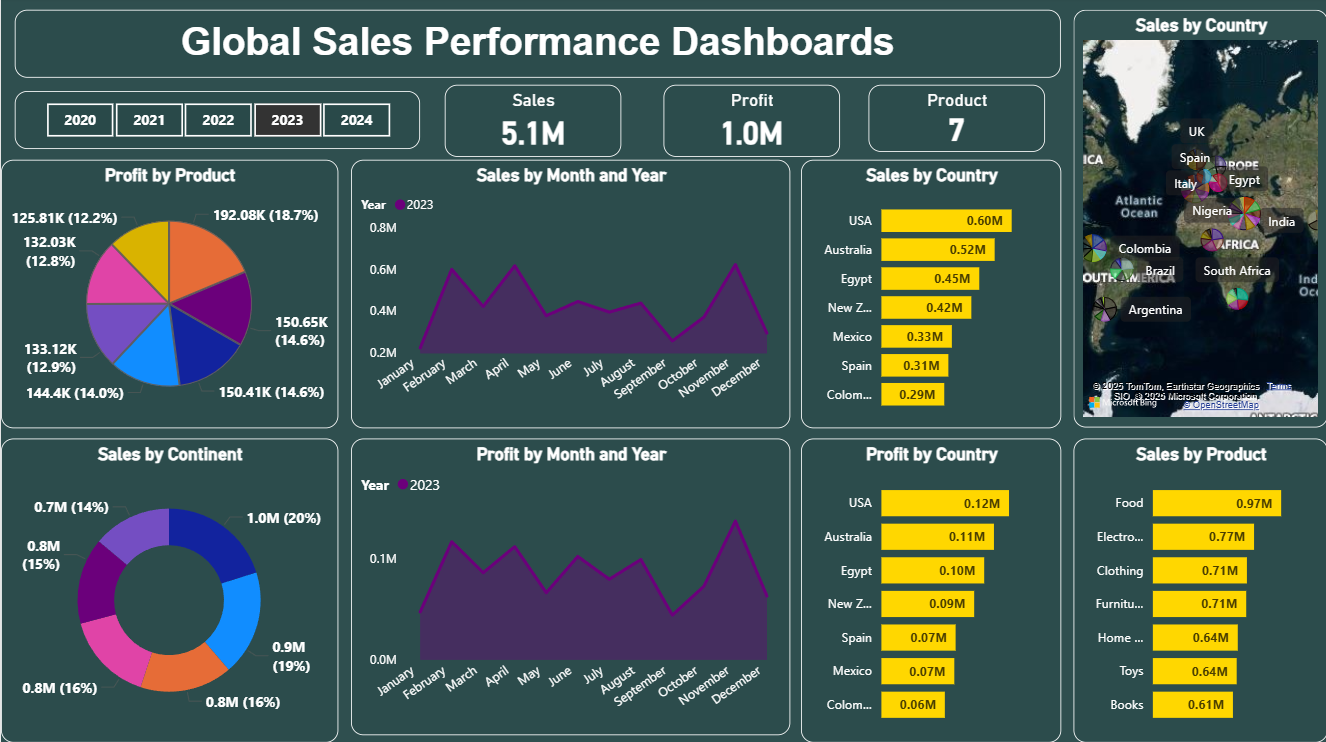

The dashboard page shown, as its layout file describes it:
{"tool":"powerbi","page":{"name":"Page 1","canvas":[1280,720],"ordinal":0},"visuals":[{"type":"clusteredBarChart","title":"Sales by Product","fields":{"Y":["Sum(global_sales_data.Sales)"],"Category":["global_sales_data.Product"]},"box":[1034.7,426.8,245.6,293.7],"z":0},{"type":"map","title":"Sales by Country","fields":{"Category":["global_sales_data.Country","global_sales_data.Continent"],"Size":["Sum(global_sales_data.Sales)"],"Series":["global_sales_data.Profit"]},"box":[1034.7,13.7,245.6,403.4],"z":1000},{"type":"clusteredBarChart","title":"Profit by Country","fields":{"Y":["Sum(global_sales_data.Profit)"],"Category":["global_sales_data.Country"]},"box":[772.6,426.8,251.1,293.7],"z":2000},{"type":"donutChart","title":"Sales by Continent","fields":{"Category":["global_sales_data.Continent"],"Y":["Sum(global_sales_data.Sales)"]},"box":[0,426.8,325.2,293.7],"z":3000},{"type":"stackedAreaChart","title":" Sales by Month and Year","fields":{"Y":["Sum(global_sales_data.Sales)"],"Category":["global_sales_data.Date.Variation.Date Hierarchy.Month"],"Series":["global_sales_data.Date.Variation.Date Hierarchy.Year"]},"box":[337.6,157.8,424,259.3],"z":4000},{"type":"stackedAreaChart","title":"Profit by Month and Year","fields":{"Category":["global_sales_data.Date.Variation.Date Hierarchy.Month"],"Series":["global_sales_data.Date.Variation.Date Hierarchy.Year"],"Y":["Sum(global_sales_data.Profit)"]},"box":[337.6,426.8,424,286.8],"z":5000},{"type":"pieChart","title":"Profit by Product","fields":{"Category":["global_sales_data.Product"],"Y":["Sum(global_sales_data.Profit)"]},"box":[0,157.8,325.2,259.3],"z":6000},{"type":"clusteredBarChart","title":"Sales by Country","fields":{"Y":["Sum(global_sales_data.Sales)"],"Category":["global_sales_data.Country"]},"box":[772.6,157.8,251.1,259.3],"z":7000},{"type":"textbox","box":[13.7,13.7,1010,65.9],"z":8000},{"type":"slicer","fields":{"Values":["global_sales_data.Date.Variation.Date Hierarchy.Year"]},"box":[13.7,91.9,391.1,56.3],"z":9000},{"type":"card","title":"Sales","fields":{"Values":["Sum(global_sales_data.Sales)"]},"box":[428.1,85.1,170.2,70],"z":10000},{"type":"card","title":"Profit","fields":{"Values":["Sum(global_sales_data.Profit)"]},"box":[639.5,85.1,170.2,70],"z":11000},{"type":"card","title":"Product","fields":{"Values":["Count(global_sales_data.Product)"]},"box":[837.1,85.1,170.2,64.5],"z":12000}]}

Visuals, with their boxes in screenshot pixels (x1, y1, x2, y2), scaled from the page's 1280x720 canvas onto the 1326x742 screenshot:
"Sales by Product" clusteredBarChart: {"left": 1072, "top": 440, "right": 1325, "bottom": 741}
"Sales by Country" map: {"left": 1072, "top": 14, "right": 1325, "bottom": 430}
"Profit by Country" clusteredBarChart: {"left": 800, "top": 440, "right": 1060, "bottom": 741}
"Sales by Continent" donutChart: {"left": 0, "top": 440, "right": 337, "bottom": 741}
" Sales by Month and Year" stackedAreaChart: {"left": 350, "top": 163, "right": 789, "bottom": 430}
"Profit by Month and Year" stackedAreaChart: {"left": 350, "top": 440, "right": 789, "bottom": 735}
"Profit by Product" pieChart: {"left": 0, "top": 163, "right": 337, "bottom": 430}
"Sales by Country" clusteredBarChart: {"left": 800, "top": 163, "right": 1060, "bottom": 430}
textbox: {"left": 14, "top": 14, "right": 1060, "bottom": 82}
slicer - global_sales_data.Date.Variation.Date Hierarchy.Year: {"left": 14, "top": 95, "right": 419, "bottom": 153}
"Sales" card: {"left": 443, "top": 88, "right": 620, "bottom": 160}
"Profit" card: {"left": 662, "top": 88, "right": 839, "bottom": 160}
"Product" card: {"left": 867, "top": 88, "right": 1043, "bottom": 154}
